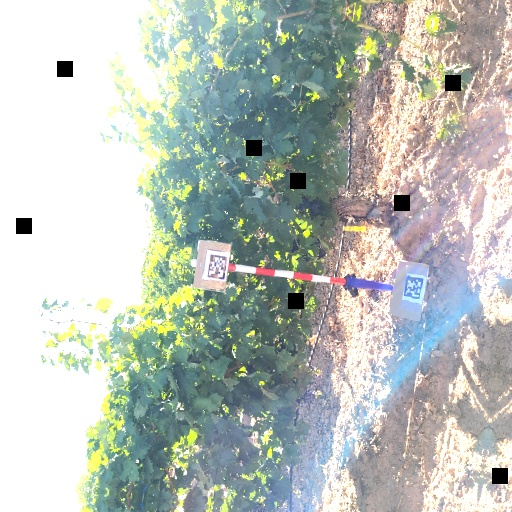QR: (207, 254, 229, 281), (404, 275, 425, 302)
